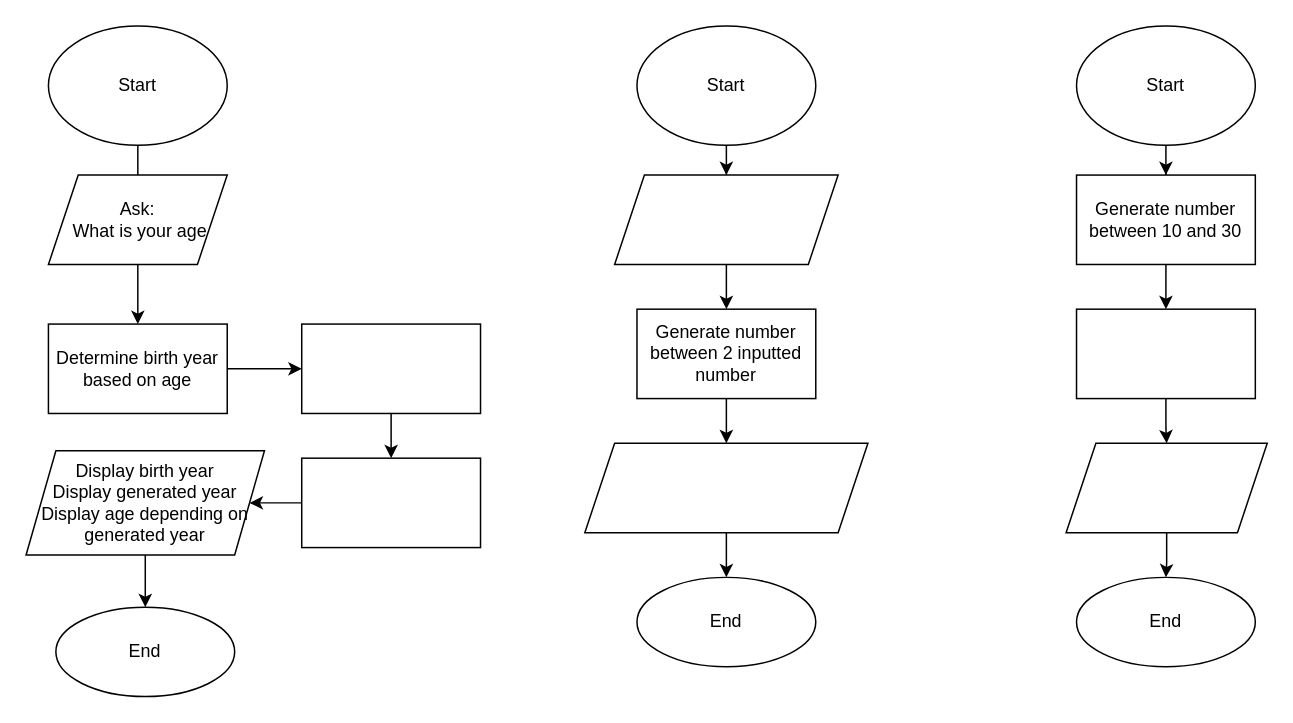
Some shapes in this 1293 by 723 pixel diagram are drawn without their labels. The centre of each missing label's shape, as x and y in pixels:
"Ask first number Ask Second Number" belongs at (x=725, y=219).
"Determine age of person when they reach the year generated" belongs at (x=390, y=502).
"Display first number, generate number, second number" belongs at (x=725, y=487).
"Generate number between generated number and 30" belongs at (x=1165, y=353).
"Generate random year up to 120 years after birth year" belongs at (x=390, y=368).
"Print the 2 numbers" belongs at (x=1166, y=487).
